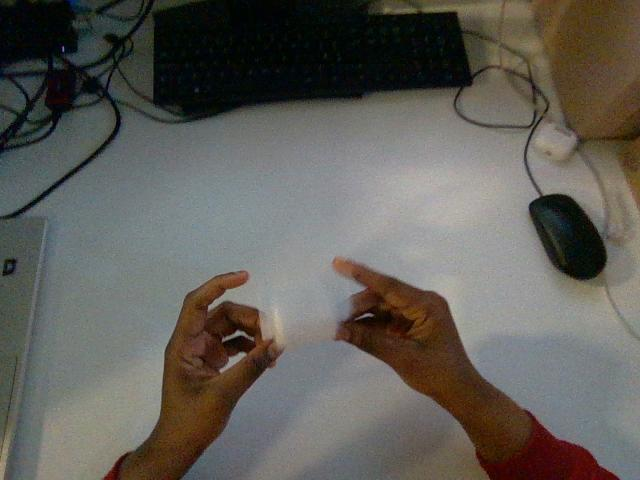gauze: (260, 283, 350, 348)
